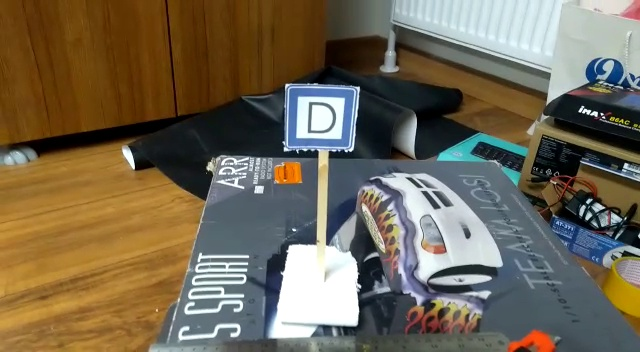durak: (285, 85, 355, 152)
